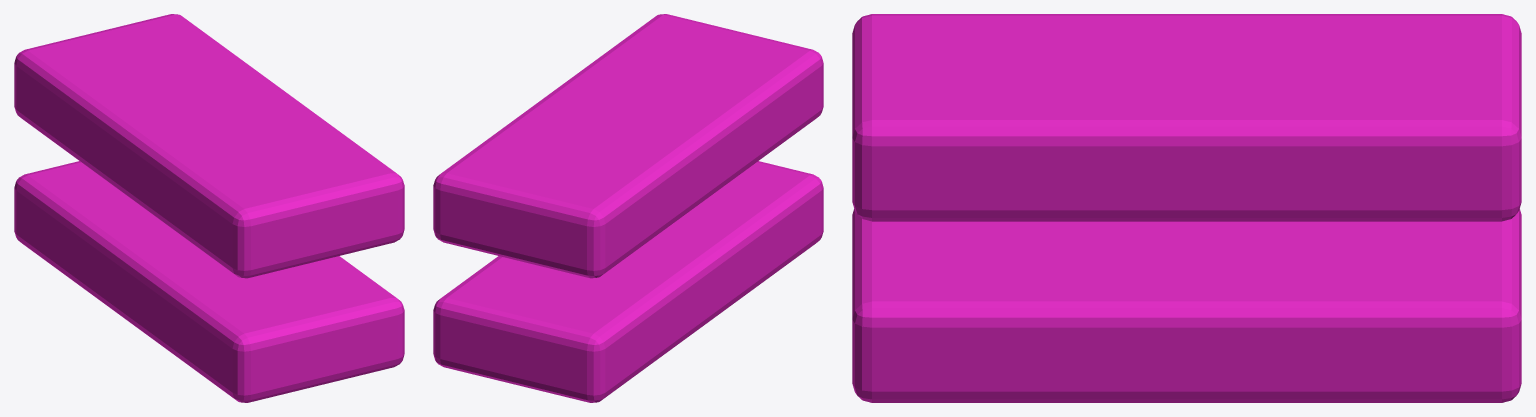
The model's file is igual.fbx.
3 views of the same model, side by side, from view 1: azimuth 30°, elevation 25°; view 2: azimuth 150°, elevation 25°; view 3: azimuth 270°, elevation 25° (orthographic). The views are drawn at different scales.
Visible parts, largest first — view 1: Cube; view 2: Cube; view 3: Cube.
Part boxes in pixels (box(x1,y1,x2,y2)): Cube: box(14, 14, 404, 402); Cube: box(433, 14, 823, 402); Cube: box(852, 14, 1521, 402).
Bounding box in the file's own units: 200 × 217 × 468.
